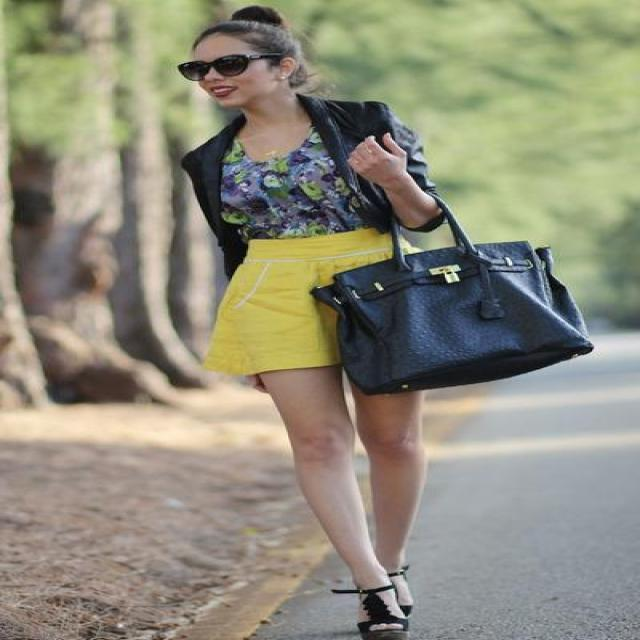bag: (309, 198, 592, 395)
jacket: (181, 94, 419, 268)
shirt: (220, 147, 402, 242)
shoe: (333, 576, 413, 639)
skirt: (211, 228, 392, 385)
sunglass: (178, 55, 248, 80)
